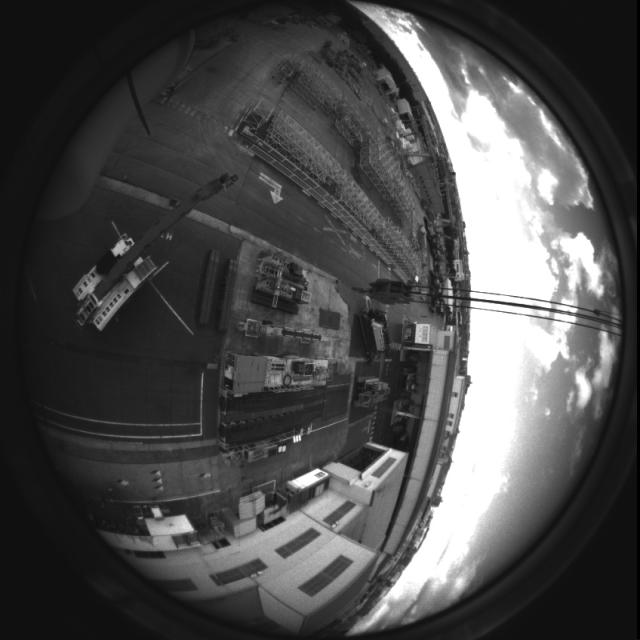rope: (333, 272, 636, 342)
